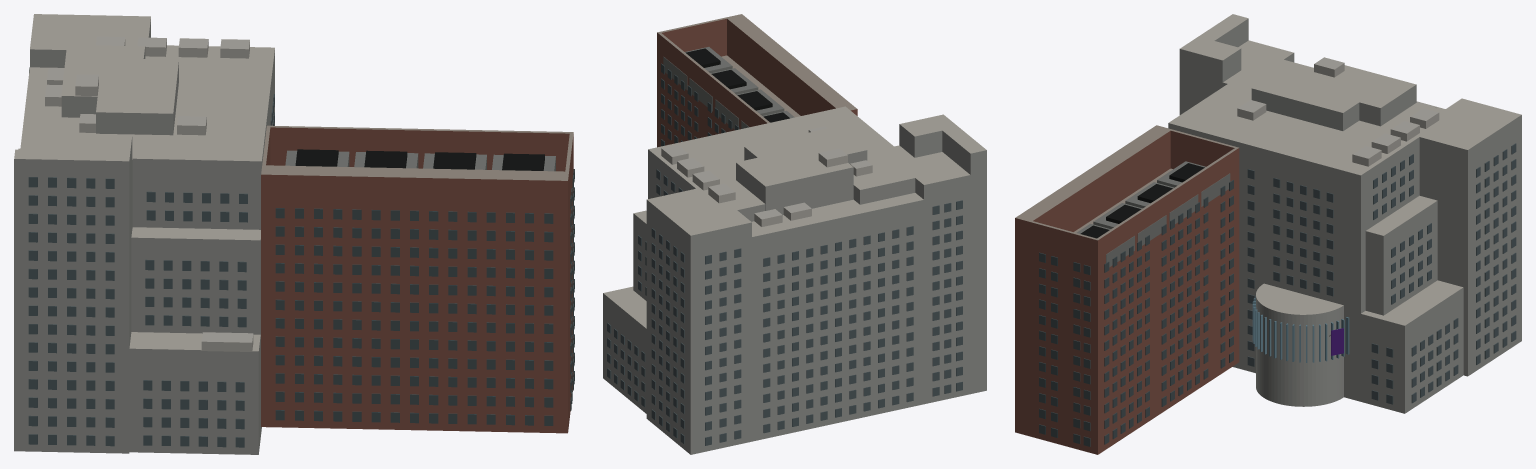
Rendered from stern-school-of-business.glb.
The picture shows the model from 3 angles, left to right: view 1: azimuth 30°, elevation 25°; view 2: azimuth 150°, elevation 25°; view 3: azimuth 270°, elevation 25°; orthographic projection. The views are drawn at different scales.
Parts seen in each view (by area): view 1: stern-school-of-business; view 2: stern-school-of-business; view 3: stern-school-of-business.
Part boxes in pixels (x1=…): stern-school-of-business: x1=14, y1=14, x2=574, y2=454; stern-school-of-business: x1=603, y1=14, x2=986, y2=454; stern-school-of-business: x1=1015, y1=14, x2=1521, y2=454.
Size of the model in its own units: 88.87 by 52.61 by 95.58.
